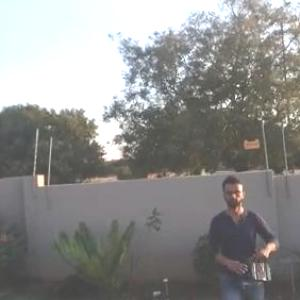follow: (203, 168, 286, 299)
